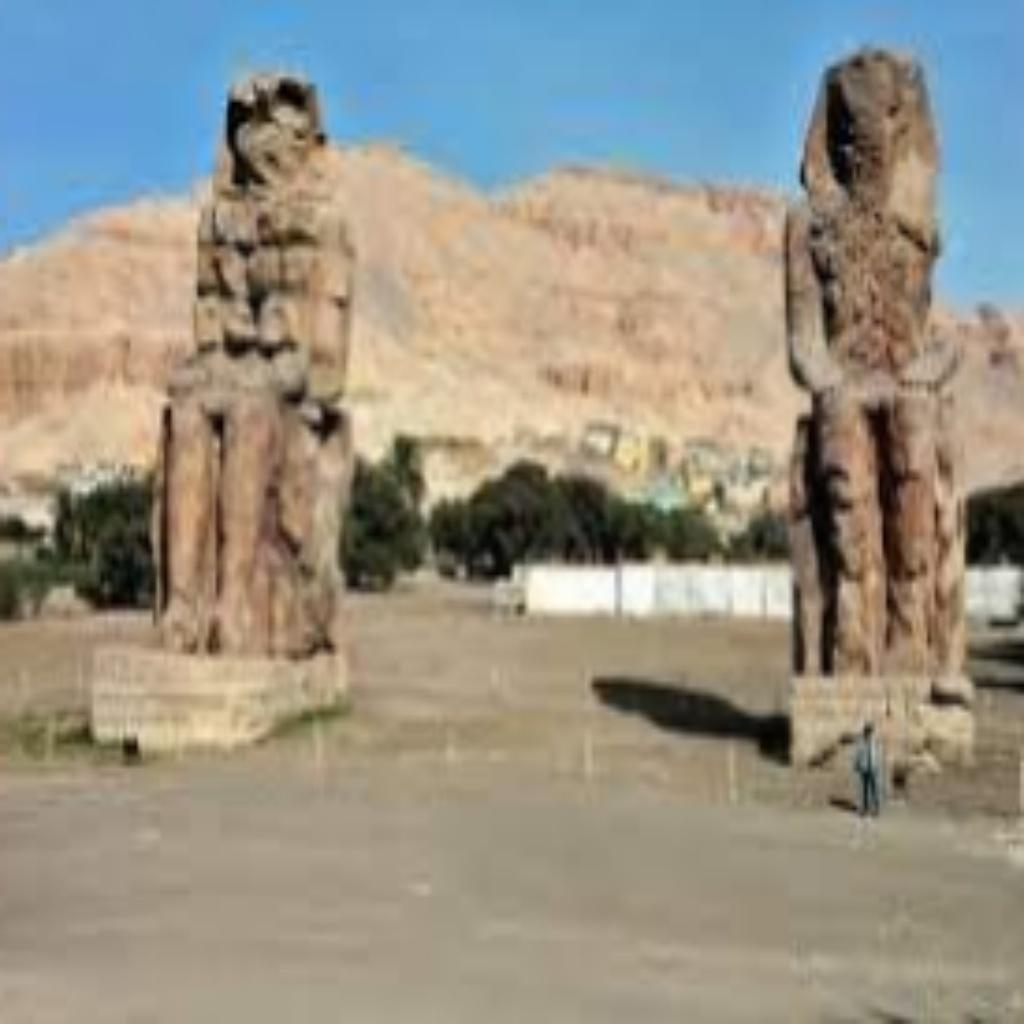Colossoi of Memnon: (767, 28, 1024, 778), (78, 73, 354, 744)
